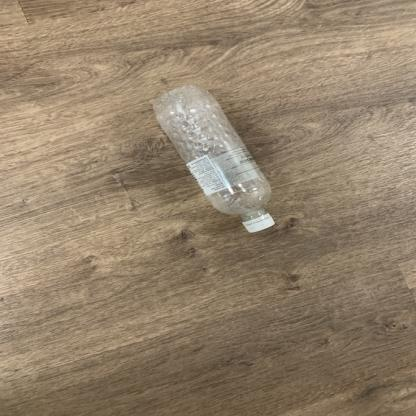trash: (154, 85, 276, 236)
